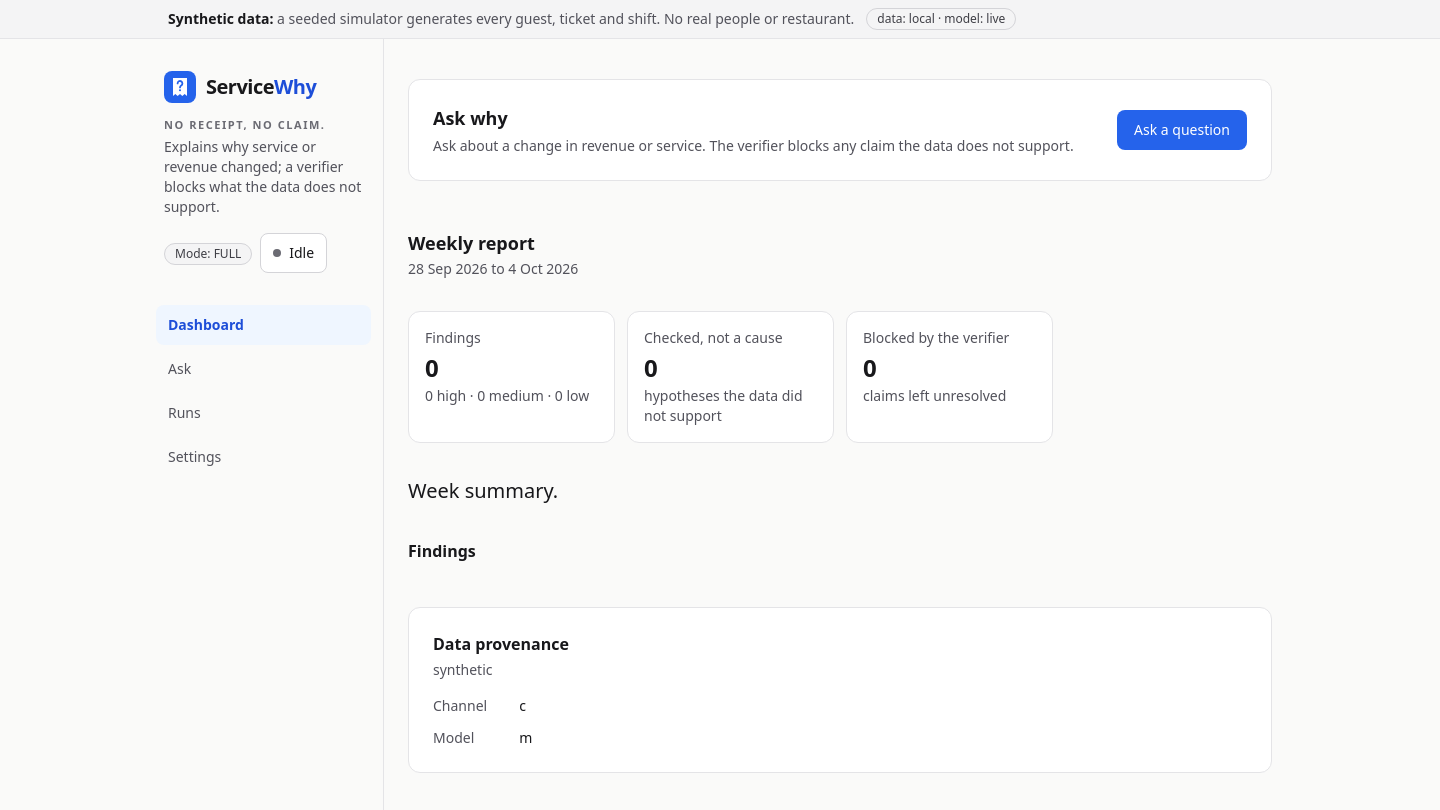
Scenario: the panel lists the last finished runs with status, time and a trace link
Click the button with test id "activity-pill".
click(294, 253)  # box x1=260 y1=233 x2=327 y2=273
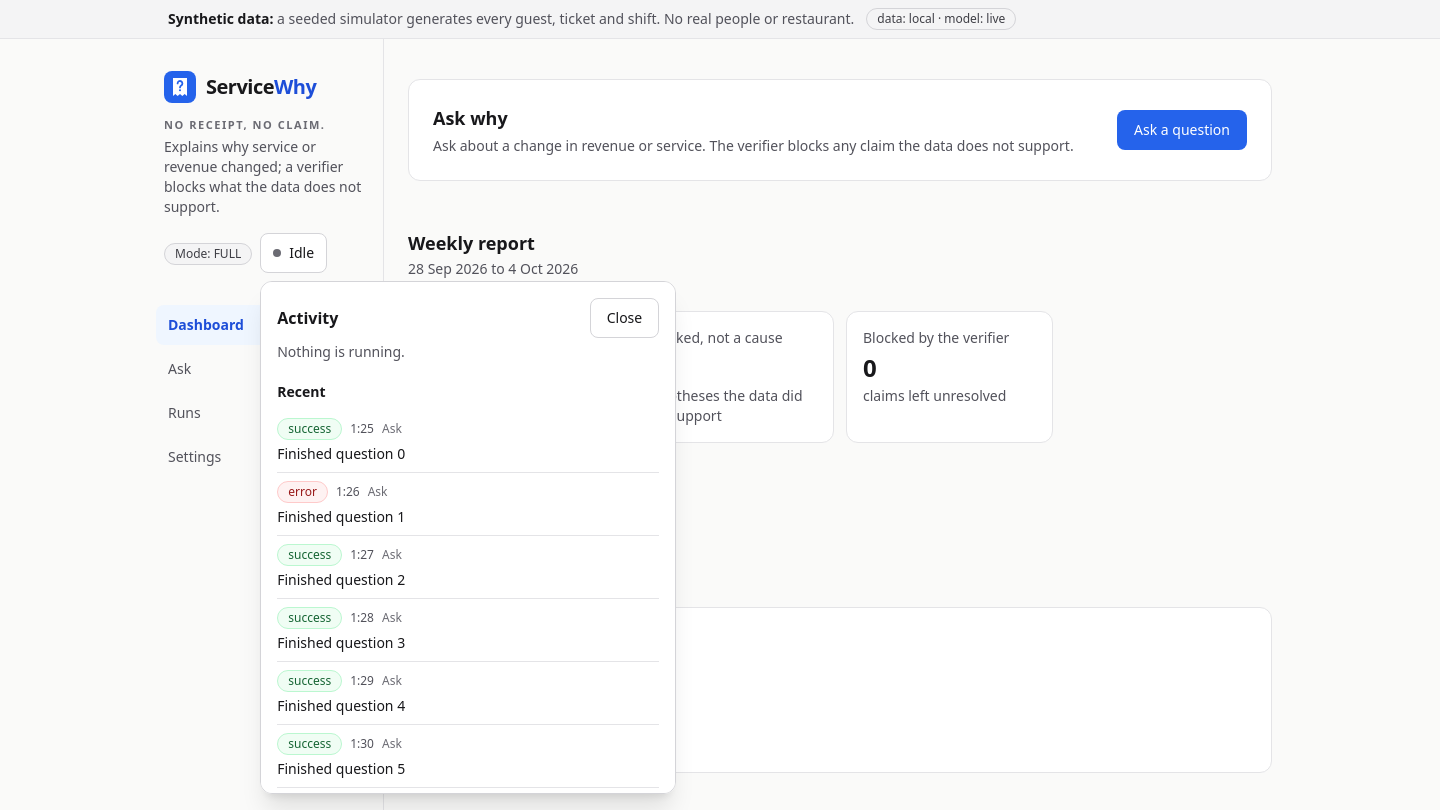
Result: the text "Finished question 0" is shown 10 times
Result: the list item "error 1:26 Ask Finished question 1" is shown at x1=277 y1=473 x2=659 y2=536
Result: the list item "success 1:25 Ask Finished question 0" is shown at x1=277 y1=410 x2=659 y2=473
